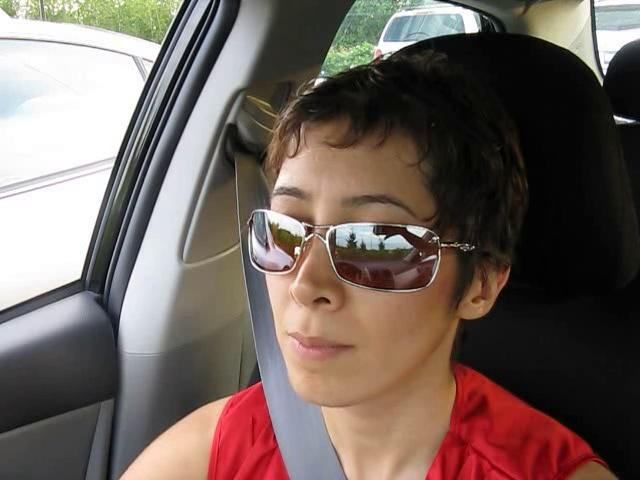no_yawn: (268, 316, 370, 374)
